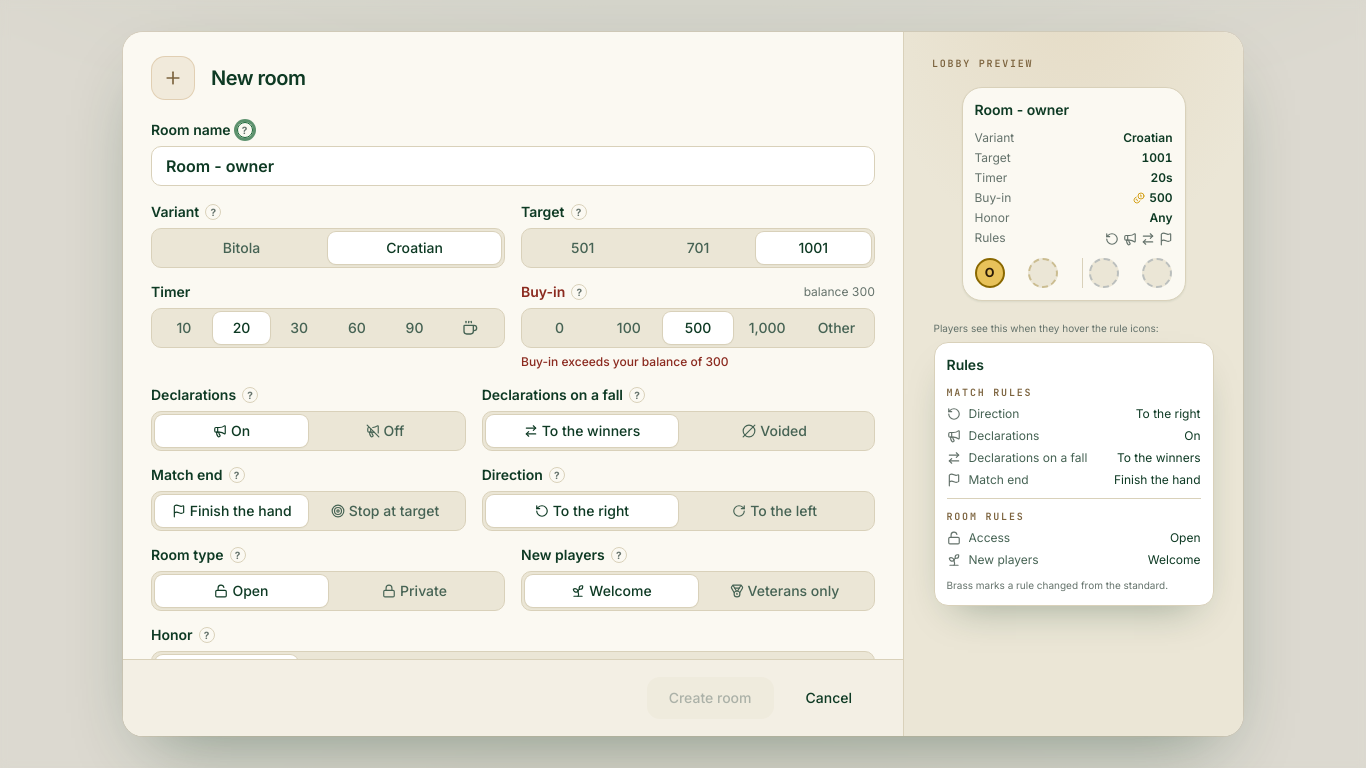
Test: CreateRoomModal game settings › blocks a buy-in above the host's balance
Expected: the text "Buy-in exceeds your balance of 300" is shown, [521,354,728,369]
Expected: the button with test id "create-room-button" is disabled, [646,676,774,720]
What coordinates should you click on to do the following:
click the radio button with test id "coin-buy-in-segmented-100"
I would click on:
 (629, 328)
Its box is [594,312,663,344].
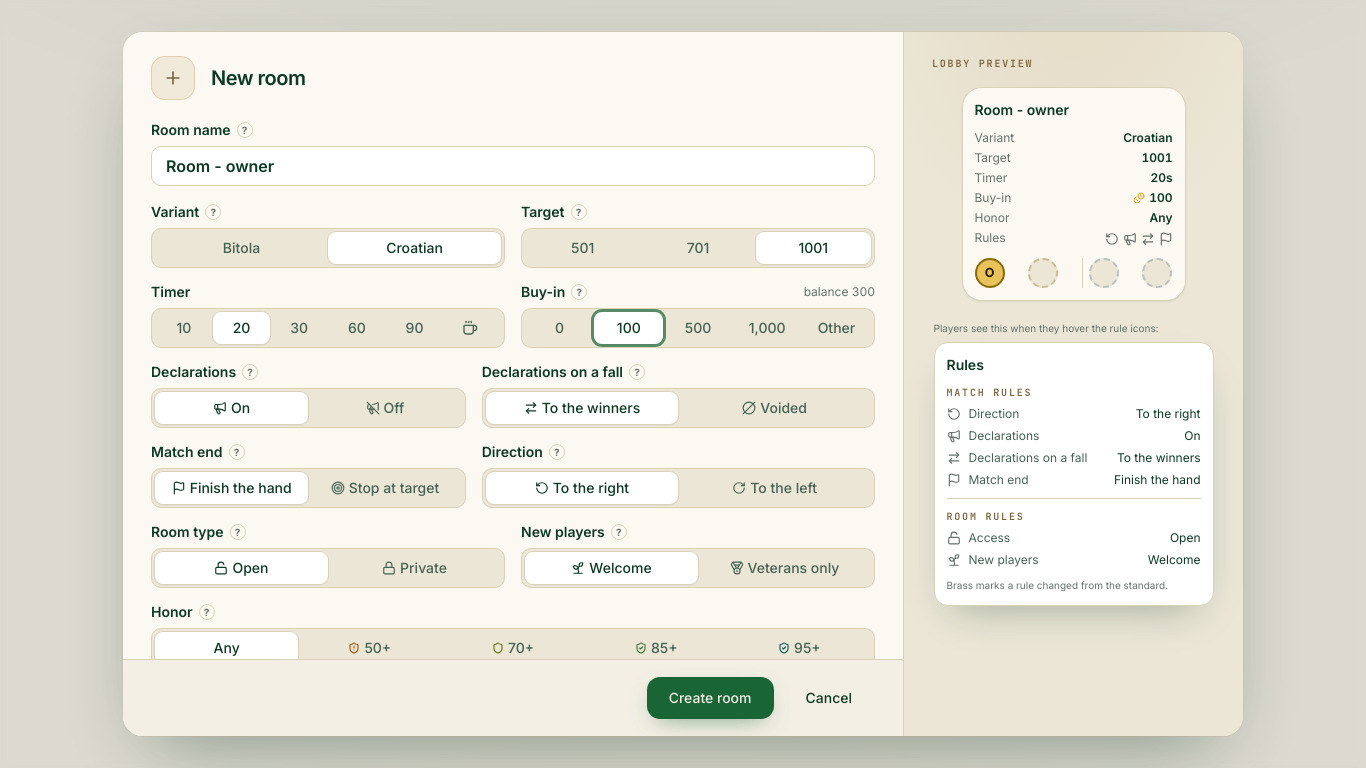
Result: the text with test id "buy-in-error" is gone
Result: the button with test id "create-room-button" is enabled at [646,676,774,720]
